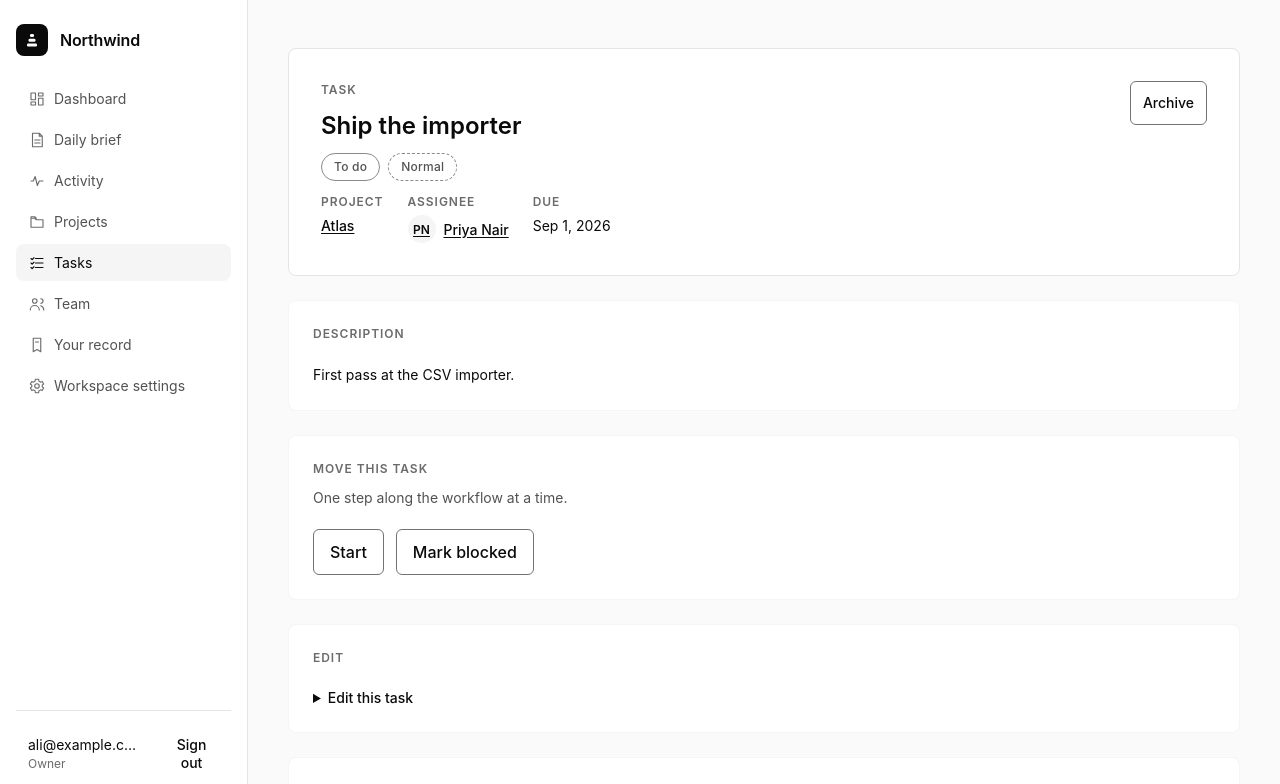
Test: archive and restore › archives, then the refreshed task offers restore
The image size is (1280, 784).
Expected: the heading "Ship the importer" is shown, [321,111,522,141]
Click the button "Archive".
click(1168, 103)  # box [1130,81,1207,125]
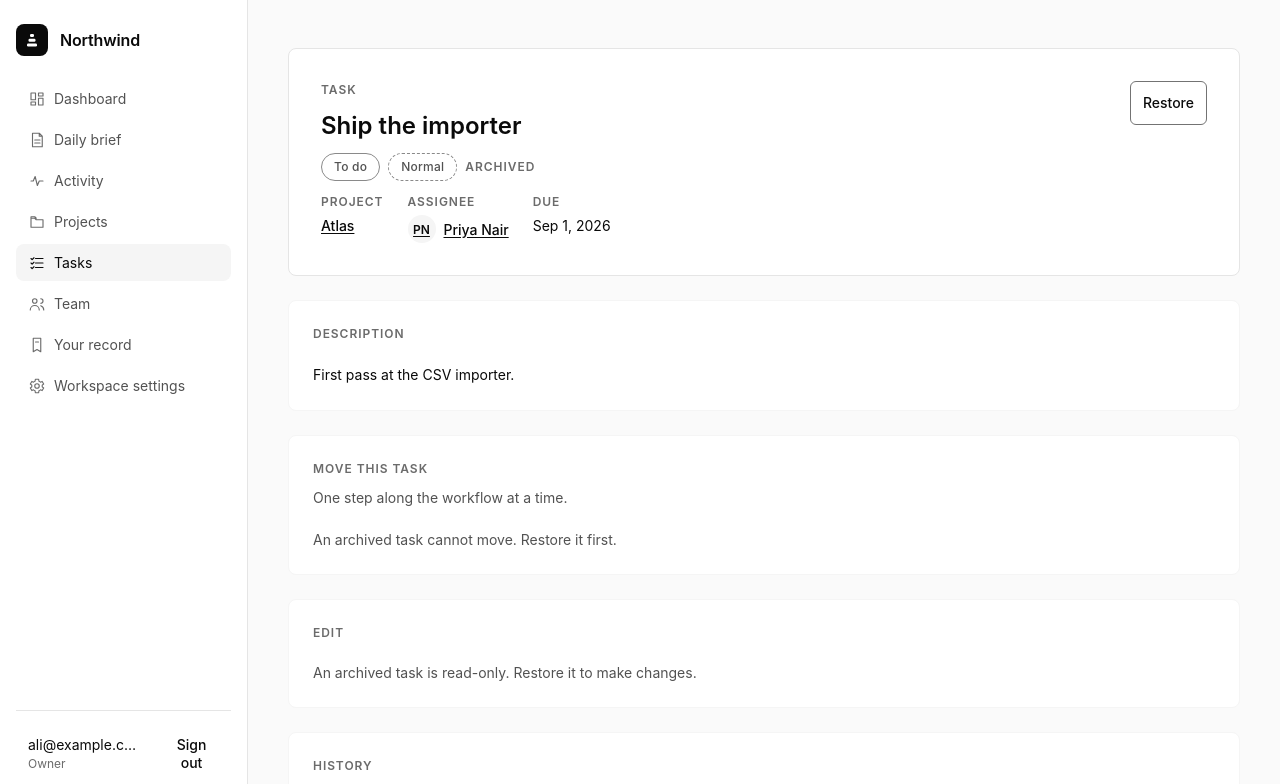
Expected: the button "Restore" is shown, [1130,81,1207,125]
